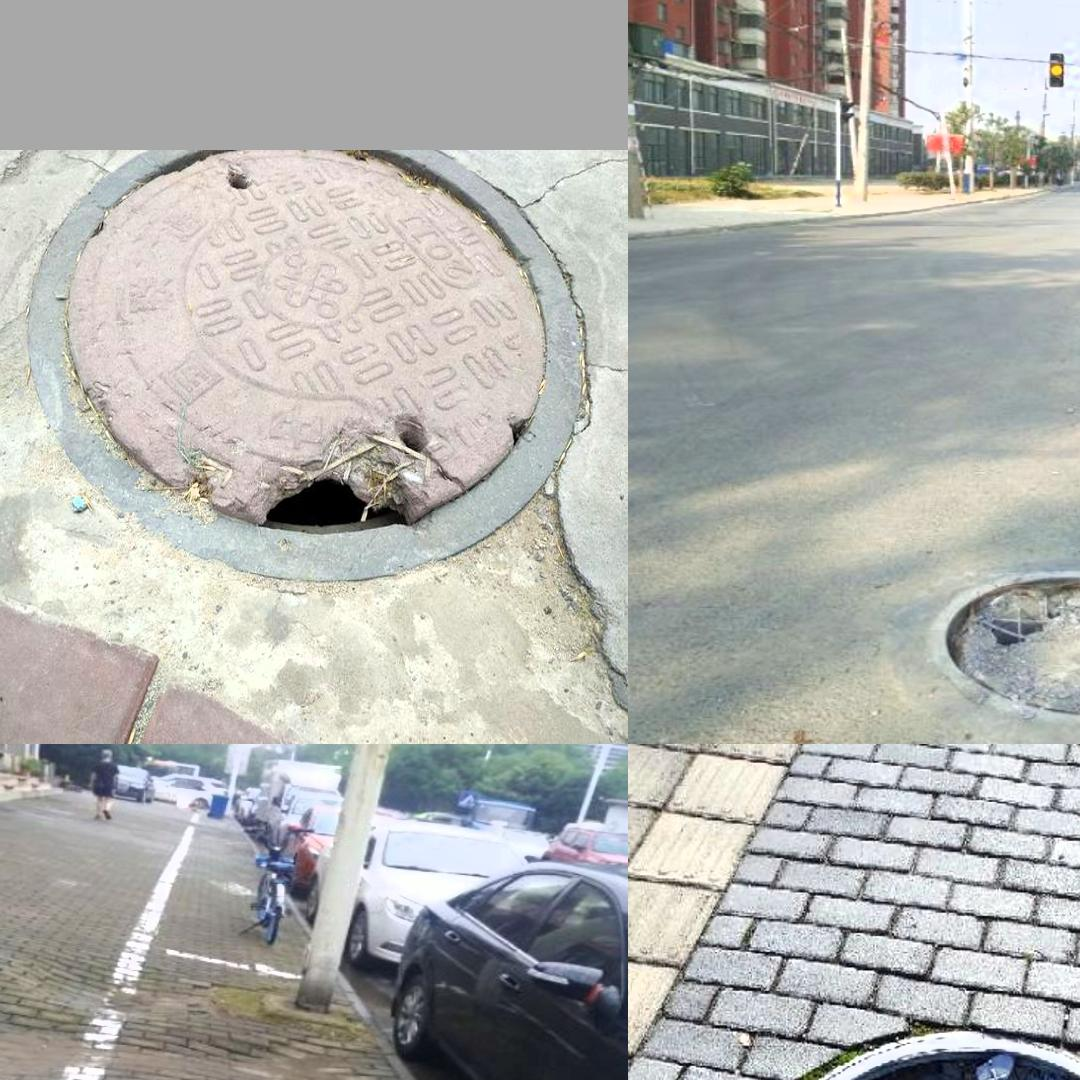broke: (38, 152, 589, 575), (692, 998, 1080, 1080), (929, 568, 1080, 724)
